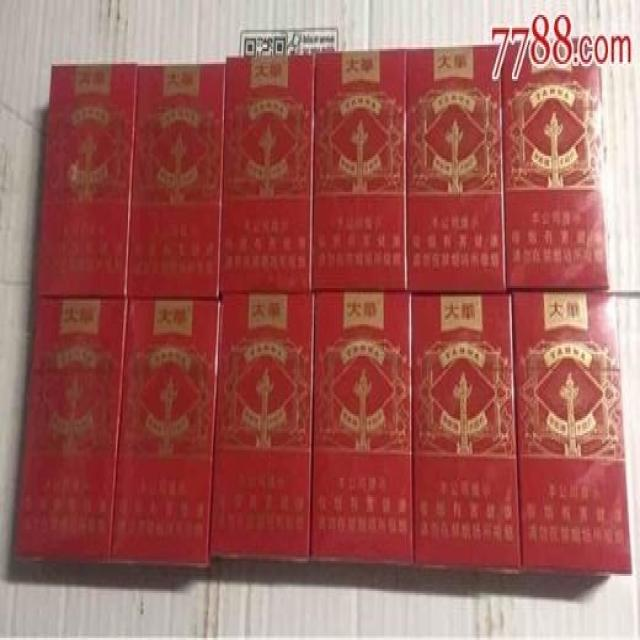box: (513, 290, 633, 578), (11, 297, 128, 563), (411, 292, 522, 572), (110, 299, 222, 570), (311, 292, 414, 567), (209, 294, 314, 561), (500, 43, 610, 290), (406, 45, 507, 292), (34, 62, 138, 297), (311, 49, 409, 294), (218, 51, 315, 297), (127, 62, 225, 299)
